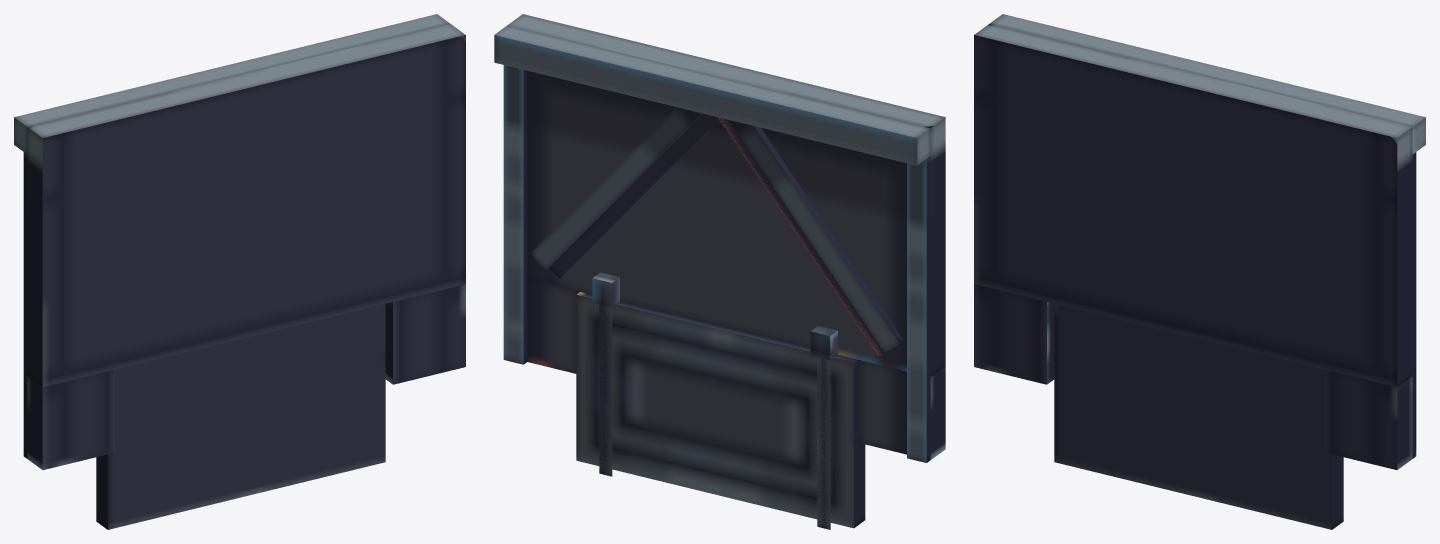
File: freight_c70_slab_top_lh.obj
3 views of the same model, side by side, from view 1: azimuth 30°, elevation 25°; view 2: azimuth 150°, elevation 25°; view 3: azimuth 330°, elevation 25° (orthographic).
Visible parts, largest first — view 1: cube; view 2: cube; view 3: cube.
Boxes of the visible parts, x1,y1,x2,y2 form: cube: (14, 14, 465, 529); cube: (494, 14, 945, 529); cube: (974, 14, 1425, 529).
Bounding box in the file's own units: 2 × 1.91 × 0.2344.
